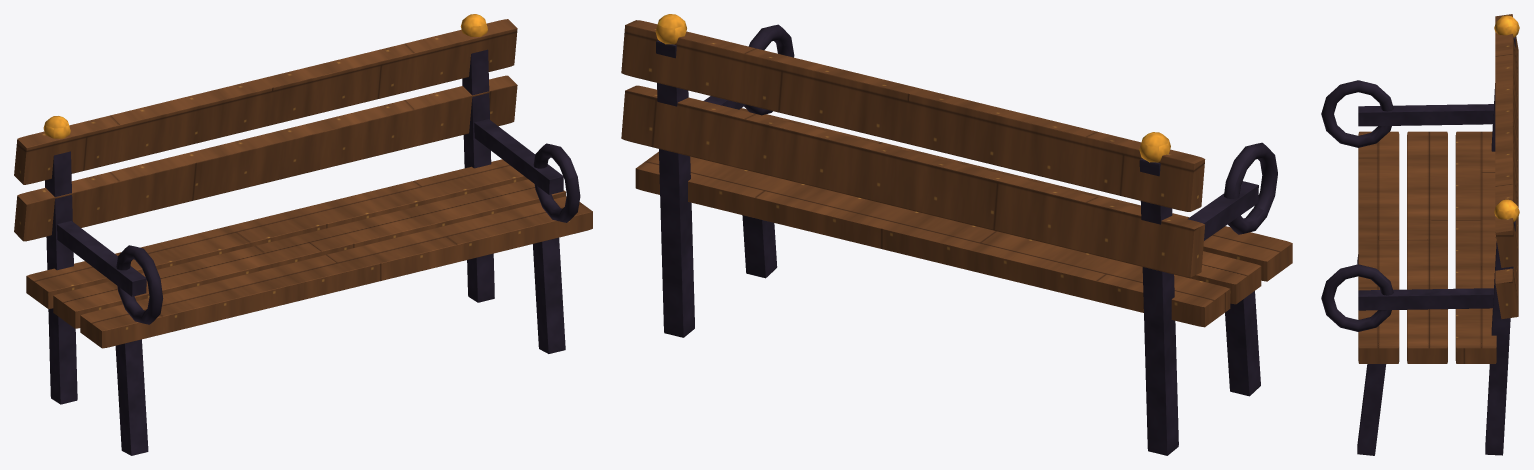
The model's file is MO_Bench.fbx.
3 views of the same model, side by side, from view 1: azimuth 30°, elevation 25°; view 2: azimuth 150°, elevation 25°; view 3: azimuth 270°, elevation 25° (orthographic). The views are drawn at different scales.
Visible parts, largest first — view 1: MO_Bench; view 2: MO_Bench; view 3: MO_Bench.
Boxes of the visible parts, <box> form: MO_Bench: <box>14,14,592,455</box>; MO_Bench: <box>621,14,1292,455</box>; MO_Bench: <box>1321,14,1519,455</box>.
Size of the model in its own units: 2 by 1.08 by 0.775.
